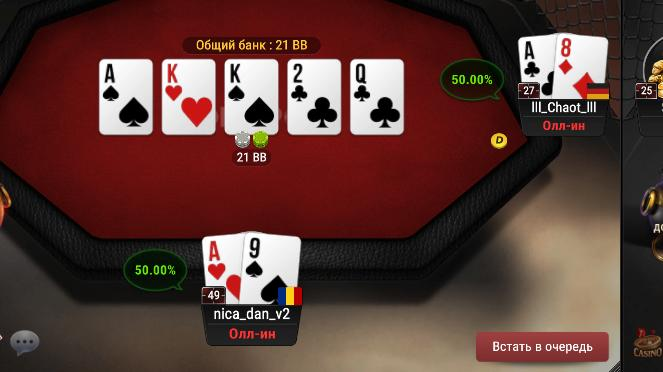2c: (288, 60, 340, 132)
8d: (556, 34, 608, 99)
9s: (242, 234, 300, 306)
Ac: (519, 34, 556, 100)
Ah: (200, 236, 243, 304)
As: (100, 60, 152, 134)
Kh: (163, 60, 215, 134)
Ks: (225, 60, 277, 134)
Qc: (351, 60, 402, 134)
